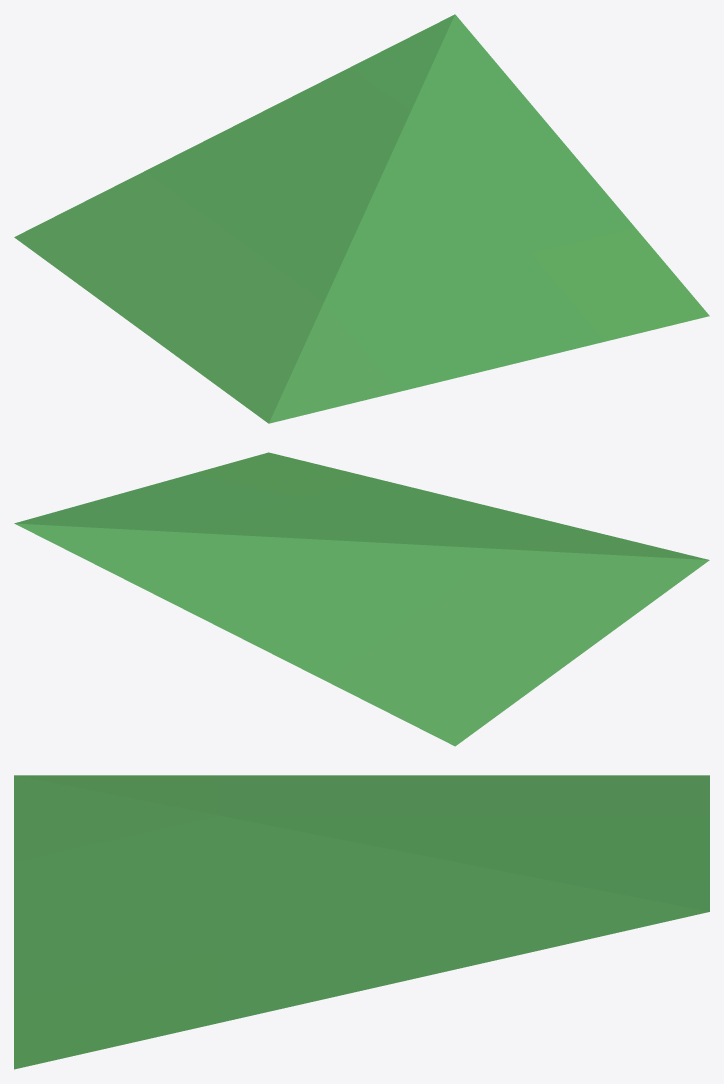
Rendered from floor_45.glb.
The picture shows the model from 3 angles, top to bottom: view 1: azimuth 30°, elevation 25°; view 2: azimuth 150°, elevation 25°; view 3: azimuth 270°, elevation 25°; orthographic projection. The views are drawn at different scales.
Visible parts, largest first — view 1: Plane.001; view 2: Plane.001; view 3: Plane.001.
Part boxes in pixels (x1=…): Plane.001: x1=14, y1=14, x2=709, y2=423; Plane.001: x1=14, y1=452, x2=709, y2=746; Plane.001: x1=14, y1=775, x2=709, y2=1069.
Size of the model in its own units: 4 by 1 by 4.
Materials: 1 (1 with a texture image).
